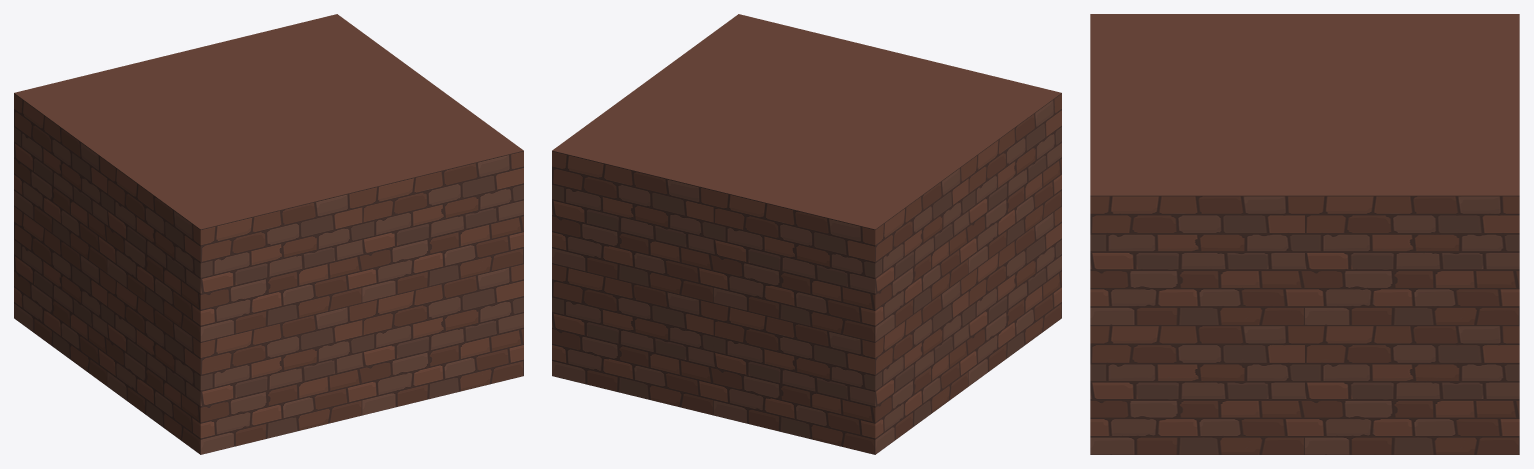
The model's file is Bock_B1.fbx.
3 views of the same model, side by side, from view 1: azimuth 30°, elevation 25°; view 2: azimuth 150°, elevation 25°; view 3: azimuth 270°, elevation 25° (orthographic). The views are drawn at different scales.
Visible parts, largest first — view 1: Bock_B1; view 2: Bock_B1; view 3: Bock_B1.
Part boxes in pixels (left/top/right/bottom): Bock_B1: left=14, top=14, right=523, bottom=454; Bock_B1: left=552, top=14, right=1061, bottom=454; Bock_B1: left=1090, top=14, right=1519, bottom=454.
Bounding box in the file's own units: 600 × 400 × 600.
